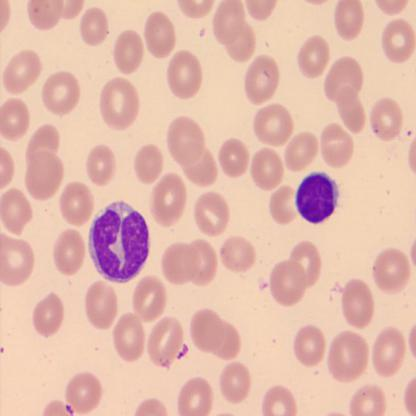Monocyte: (295, 170, 340, 224)
